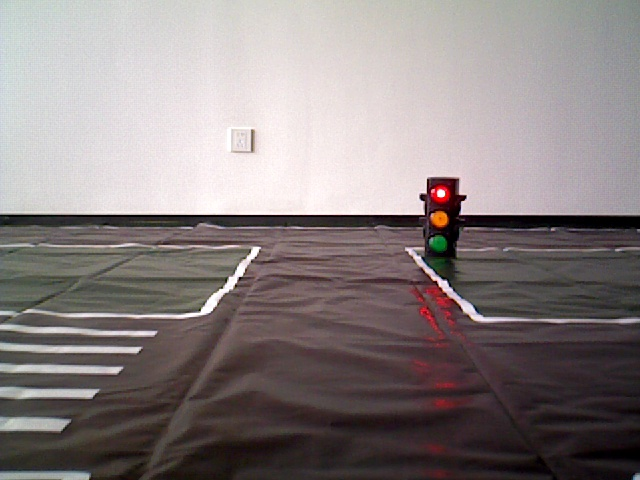red: (424, 180, 453, 256)
